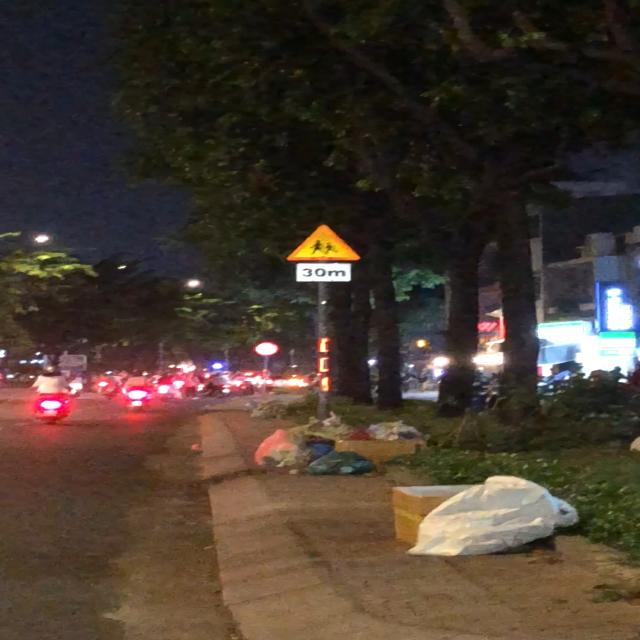Bien bao tre em: (282, 221, 362, 262)
